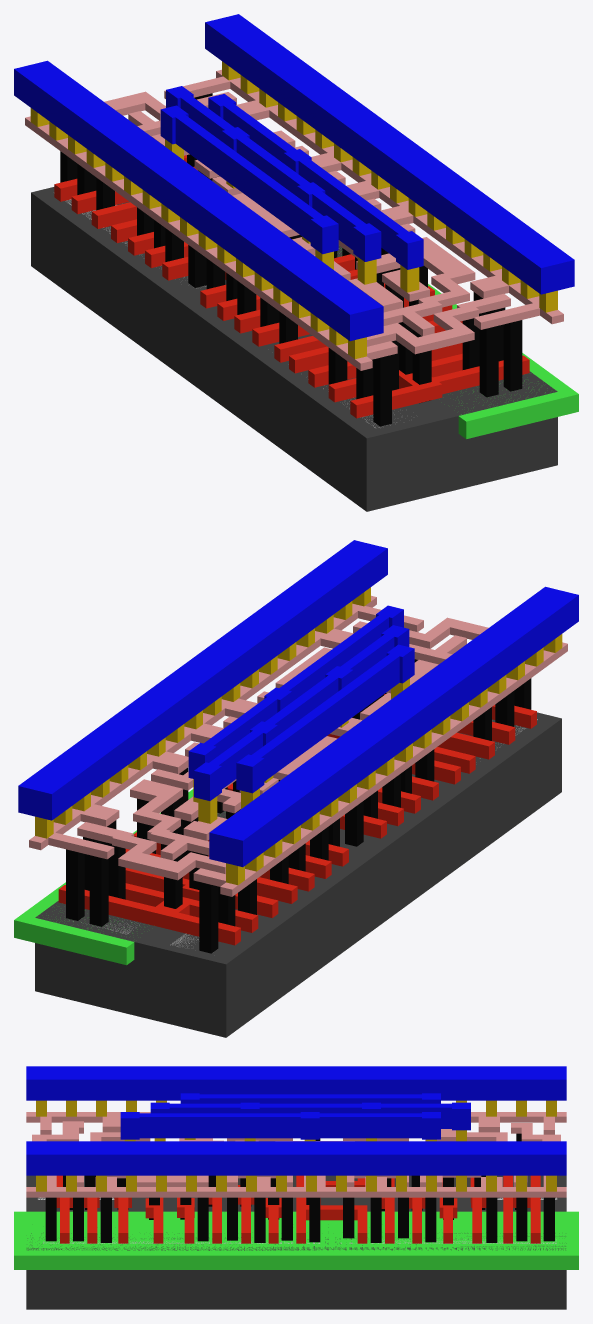
File: sky130_fd_sc_hd__fa_2.obj
The picture shows the model from 3 angles, top to bottom: view 1: azimuth 30°, elevation 25°; view 2: azimuth 150°, elevation 25°; view 3: azimuth 270°, elevation 25°; orthographic projection. The views are drawn at different scales.
Visible parts, largest first — view 1: metal1, subs, li, licon, poly, mcon, nwell; view 2: metal1, subs, li, licon, poly, mcon, nwell; view 3: metal1, subs, nwell, li, poly, licon, mcon, tap.
Boxes of the visible parts, <box> form: metal1: <box>14,14,574,341</box>; subs: <box>31,187,557,511</box>; li: <box>25,69,563,370</box>; licon: <box>60,93,522,426</box>; poly: <box>54,155,529,418</box>; mcon: <box>30,61,557,359</box>; nwell: <box>341,248,578,439</box>; metal1: <box>18,540,578,867</box>; subs: <box>35,712,561,1037</box>; li: <box>29,595,567,896</box>; licon: <box>66,659,531,953</box>; poly: <box>58,694,536,945</box>; mcon: <box>35,587,562,885</box>; nwell: <box>14,789,193,965</box>; metal1: <box>26,1066,566,1175</box>; subs: <box>26,1175,566,1309</box>; nwell: <box>14,1211,578,1269</box>; li: <box>26,1112,566,1197</box>; poly: <box>56,1175,540,1243</box>; licon: <box>45,1133,554,1242</box>; mcon: <box>36,1100,556,1191</box>; tap: <box>43,1239,556,1243</box>.
Size of the model in its own units: 3.2 by 2.74 by 8.66.
